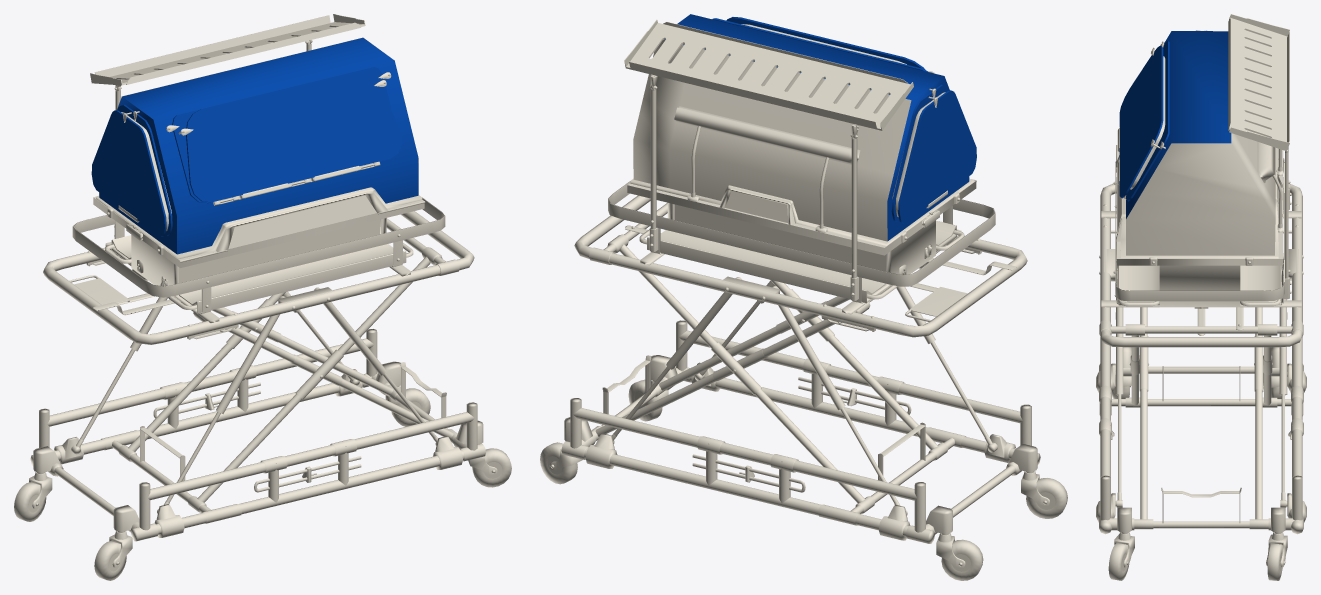
Rendered from Couveuse_low.fbx.
The picture shows the model from 3 angles, left to right: view 1: azimuth 30°, elevation 25°; view 2: azimuth 150°, elevation 25°; view 3: azimuth 270°, elevation 25°; orthographic projection. The views are drawn at different scales.
Parts seen in each view (by area): view 1: VitreExt_low, Plexi_low, Barrelat_low, Cadresup_low, Tube_low, Cadre_low, PoseBout_low, Verin_low, EtagB_low, Roue_low, BaseCouvSide_low, Barrevert_low (+17 smaller); view 2: Box_low, EtagA_low, Barrelat_low, VitreExt_low, Tube_low, Cadresup_low, Cadre_low, PoseBout_low, Plexi_low, Verin_low, Roue_low, BaseCouvSide_low (+21 smaller); view 3: Box_low, Plexi_low, EtagA_low, Cadresup_low, VitreExt_low, Tube_low, BaseCouv_low, Barrelat_low, Barretrans_low, Cadre_low, Verin_low, PoseBout_low (+24 smaller).
Part boxes in pixels (<box>): VitreExt_low: <box>91,71,402,236</box>; Plexi_low: <box>99,38,418,254</box>; Barrelat_low: <box>47,338,474,534</box>; Cadresup_low: <box>43,211,474,344</box>; Tube_low: <box>118,247,457,512</box>; Cadre_low: <box>72,197,445,297</box>; PoseBout_low: <box>111,235,406,313</box>; Verin_low: <box>71,287,437,513</box>; EtagB_low: <box>94,15,361,84</box>; Roue_low: <box>14,388,511,580</box>; BaseCouvSide_low: <box>179,219,379,283</box>; Barrevert_low: <box>39,329,477,530</box>; Box_low: <box>633,18,911,241</box>; EtagA_low: <box>626,23,909,130</box>; Barrelat_low: <box>573,330,1022,536</box>; VitreExt_low: <box>726,17,976,223</box>; Tube_low: <box>591,234,948,513</box>; Cadresup_low: <box>574,195,1027,337</box>; Cadre_low: <box>608,181,995,286</box>; PoseBout_low: <box>647,220,956,303</box>; Plexi_low: <box>664,14,969,240</box>; Verin_low: <box>612,277,997,514</box>; Roue_low: <box>540,379,1067,580</box>; BaseCouvSide_low: <box>674,204,885,271</box>; Box_low: <box>1126,133,1275,255</box>; Plexi_low: <box>1126,31,1231,218</box>; EtagA_low: <box>1229,17,1287,141</box>; Cadresup_low: <box>1099,183,1303,347</box>; VitreExt_low: <box>1119,45,1163,198</box>; Tube_low: <box>1125,307,1277,529</box>; BaseCouv_low: <box>1159,265,1240,307</box>; Barrelat_low: <box>1100,337,1302,477</box>; Barretrans_low: <box>1111,366,1291,528</box>; Cadre_low: <box>1115,158,1284,301</box>; Verin_low: <box>1115,253,1287,507</box>; PoseBout_low: <box>1118,265,1281,305</box>.
Bounding box in the file's own units: 120 × 121 × 54.91.
